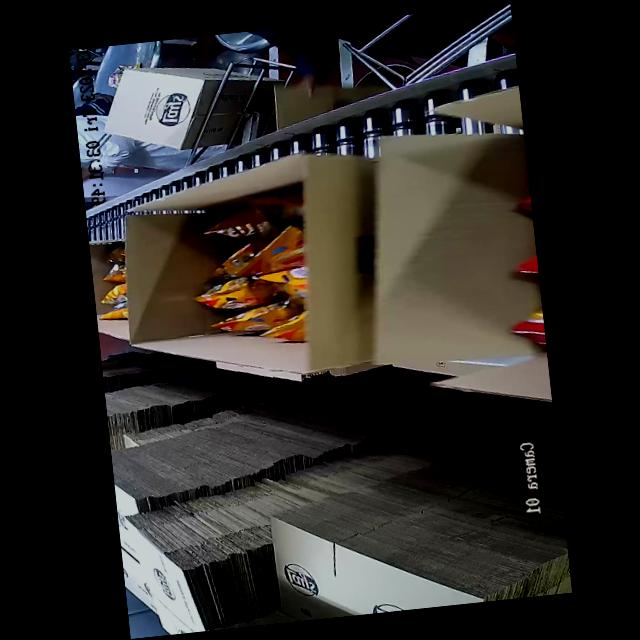cheese: (220, 206, 306, 350), (88, 233, 143, 333)
masala: (477, 138, 544, 334)
